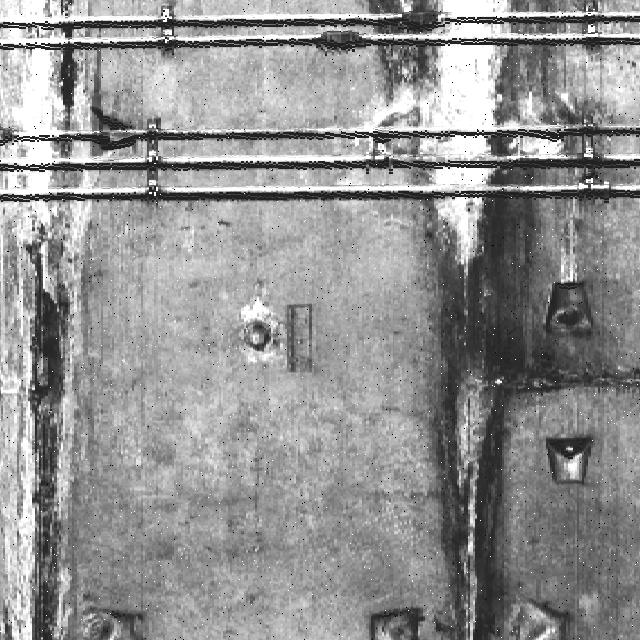leakage: (375, 1, 550, 637), (0, 4, 101, 640)
